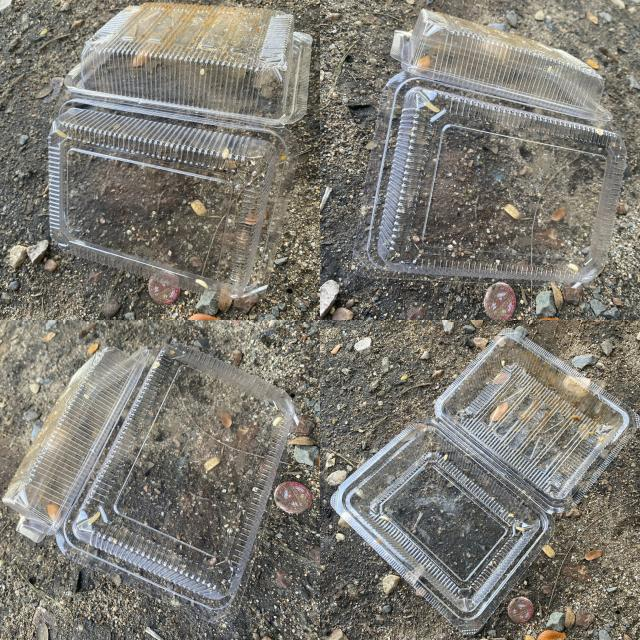Single-Use-Plastic: (331, 330, 640, 634), (4, 344, 299, 621), (49, 2, 311, 300), (355, 10, 626, 284)
